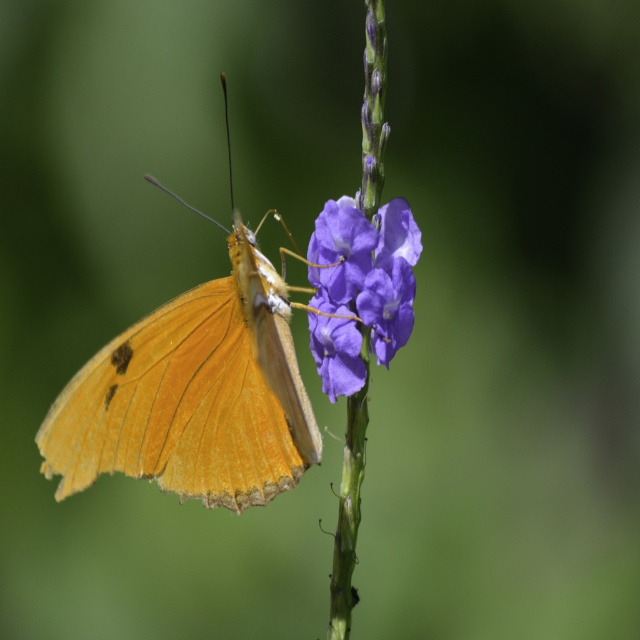Butterfly: (35, 71, 391, 516)
